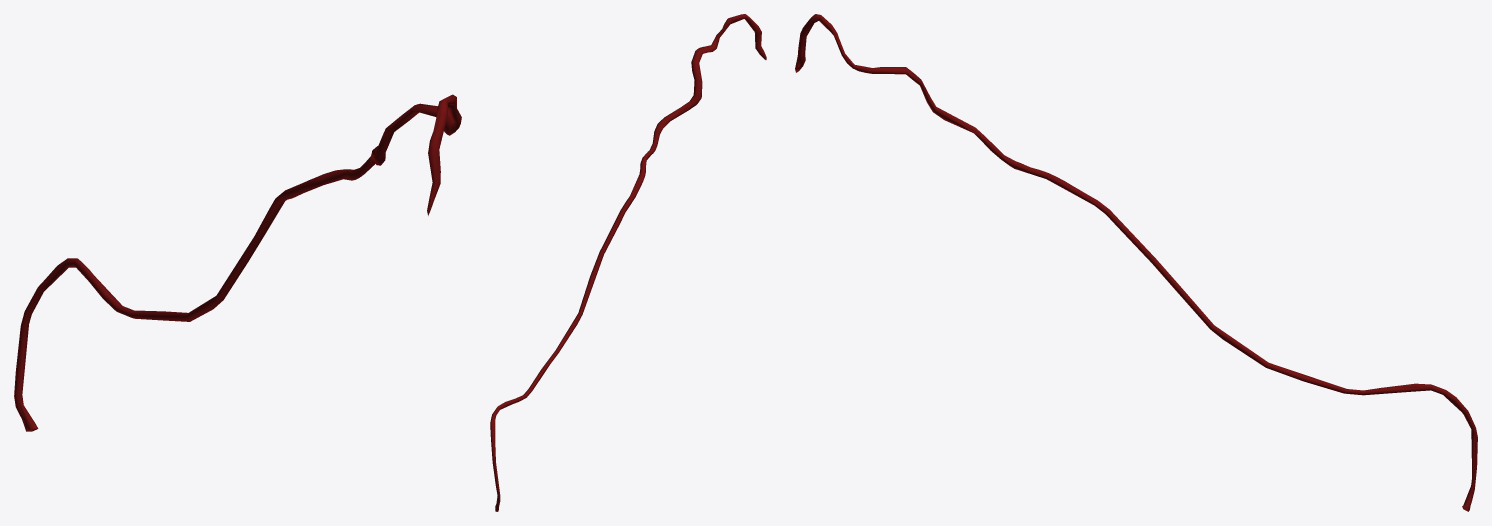
The model's file is R arteria vertebralis.fbx.
3 views of the same model, side by side, from view 1: azimuth 30°, elevation 25°; view 2: azimuth 150°, elevation 25°; view 3: azimuth 270°, elevation 25° (orthographic). The views are drawn at different scales.
Visible parts, largest first — view 1: R arteria vertebralis, R arteria vertebralis low; view 2: R arteria vertebralis, R arteria vertebralis low; view 3: R arteria vertebralis, R arteria vertebralis low.
Boxes of the visible parts, x1,y1,x2,y2 form: R arteria vertebralis: [14, 94, 461, 431]; R arteria vertebralis low: [14, 97, 461, 431]; R arteria vertebralis: [490, 14, 766, 511]; R arteria vertebralis low: [490, 14, 761, 510]; R arteria vertebralis: [795, 14, 1477, 511]; R arteria vertebralis low: [797, 17, 1475, 511].
Size of the model in its own units: 3.38 by 22.58 by 28.94.
